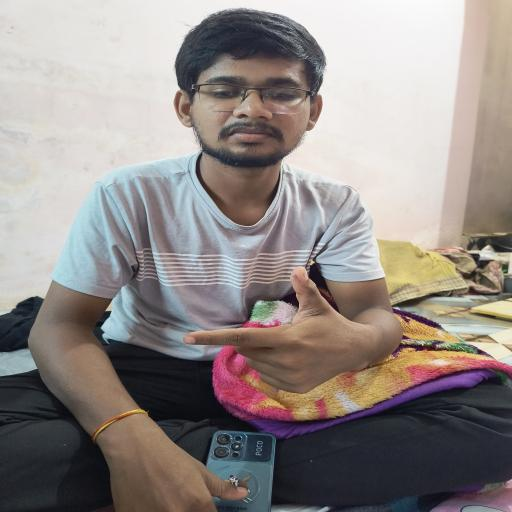OK: (176, 257, 399, 402)
